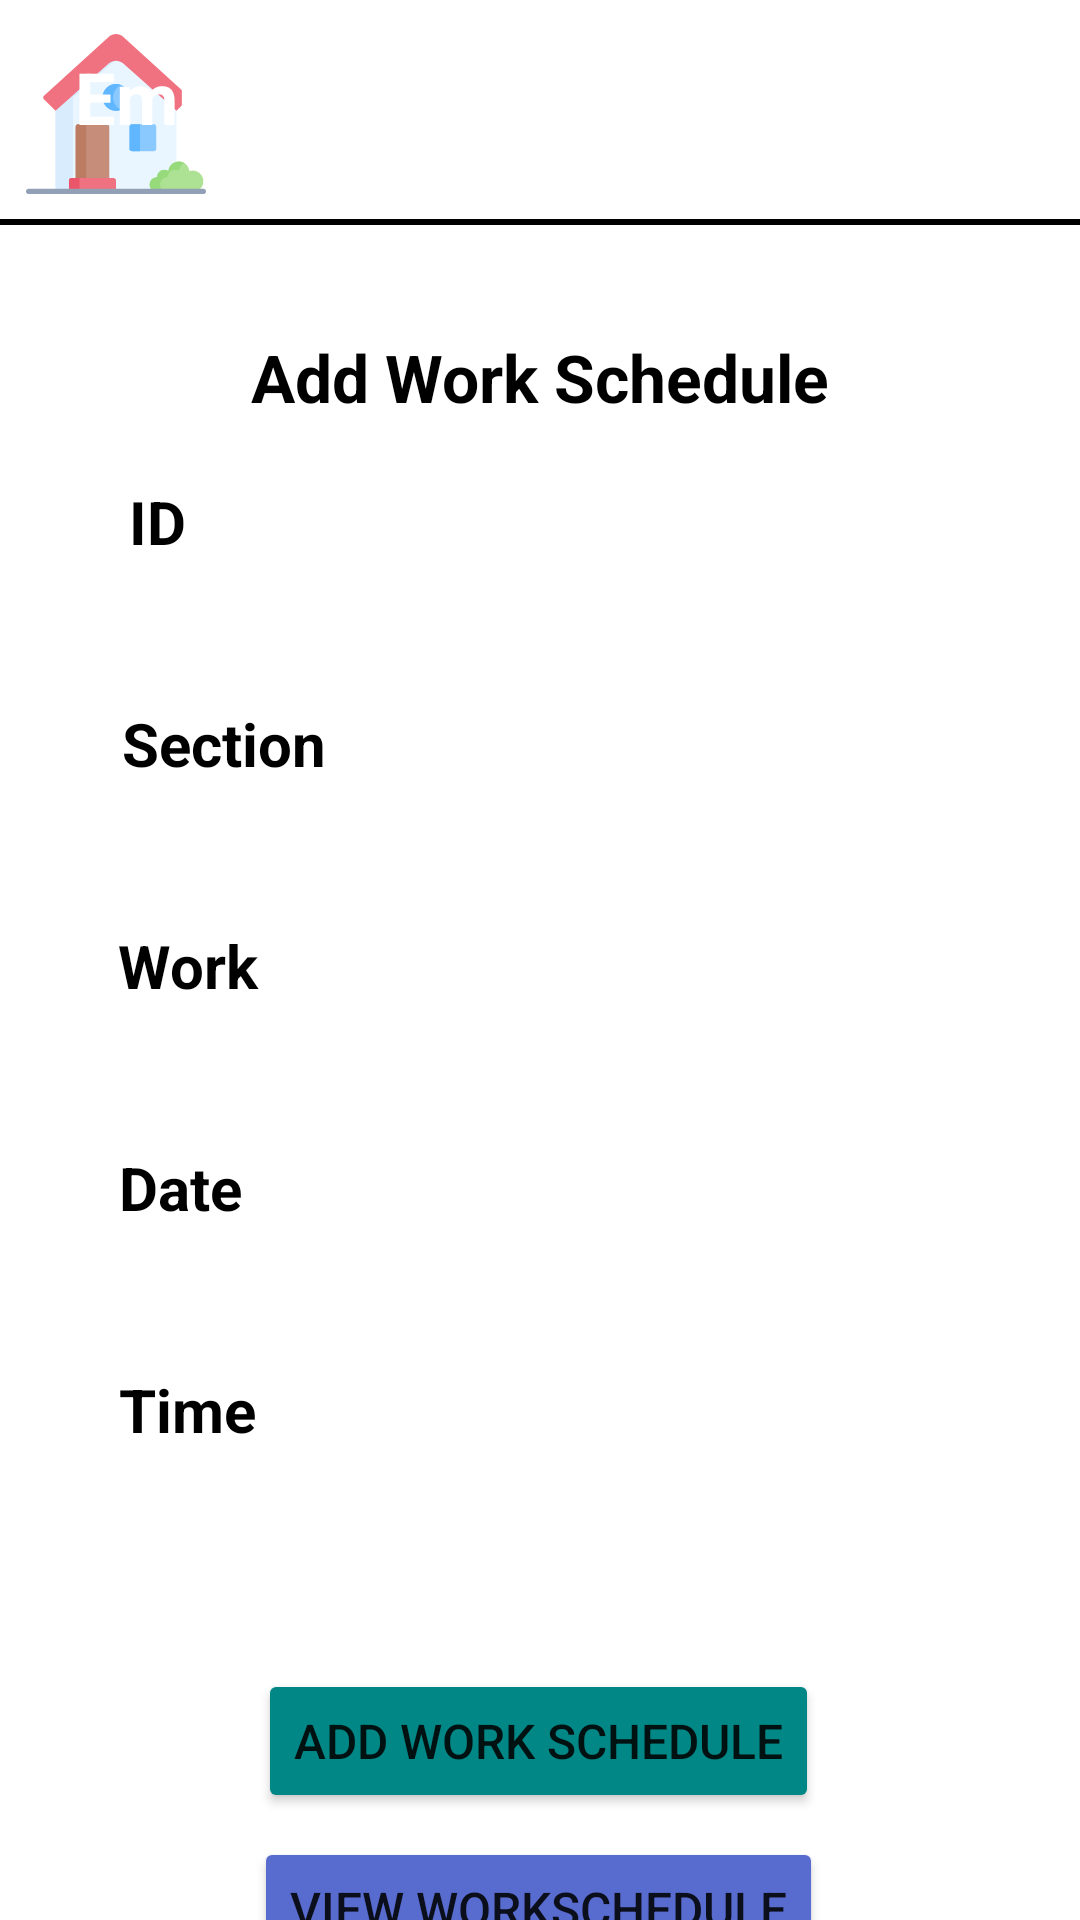

Icon click points for this 1080*1920 phone screenshot, format (x,y):
home: (116,114)
